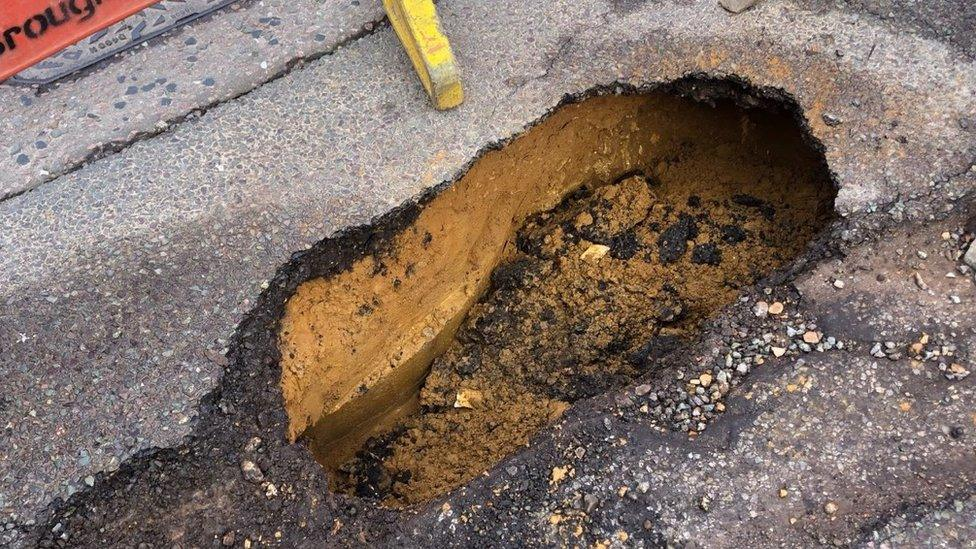Hole_in_the_road: (160, 68, 889, 507)
